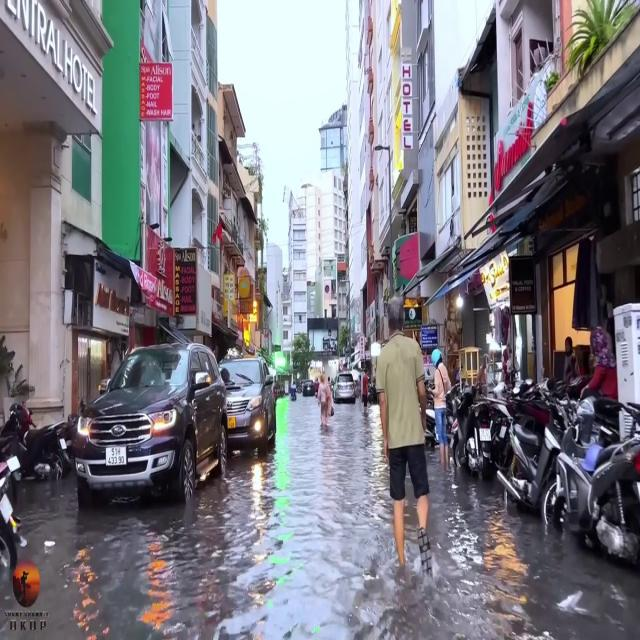bien_trang: (105, 444, 126, 467)
bien_vang: (226, 416, 235, 428)
